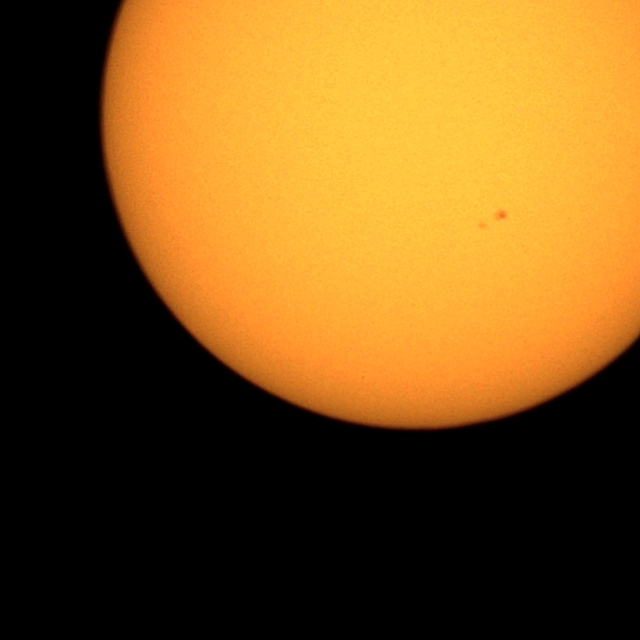sunspot: (494, 208, 509, 223)
